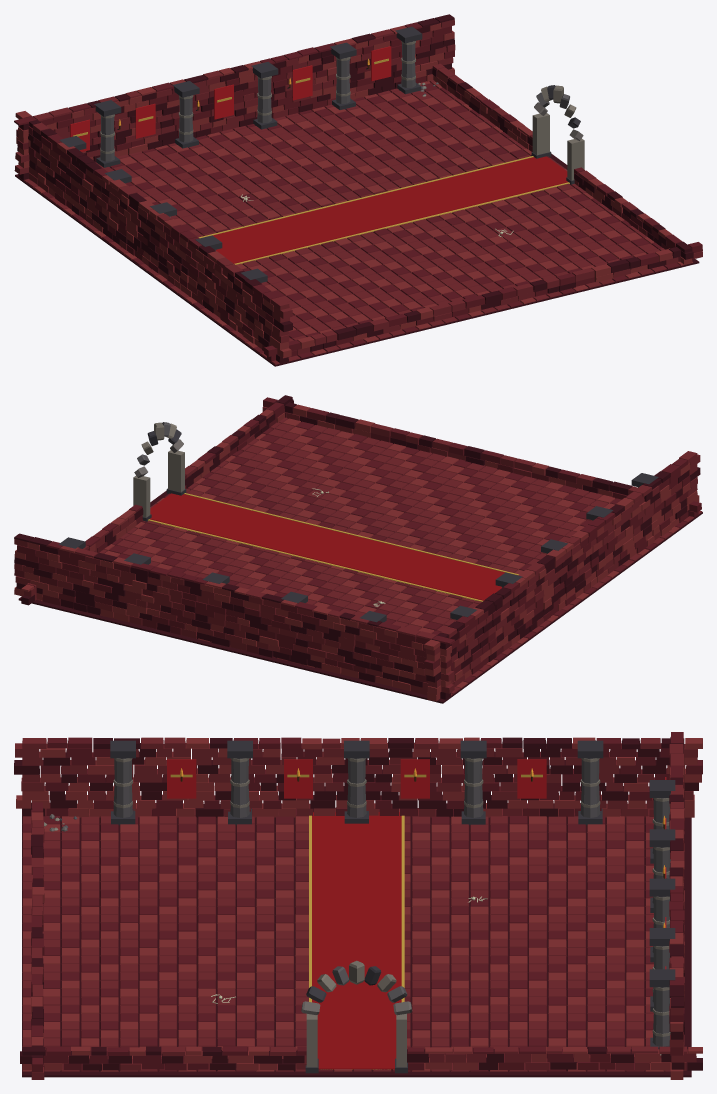
The model's file is stage.glb.
3 renders of one model, top to bottom at view 1: azimuth 30°, elevation 25°; view 2: azimuth 150°, elevation 25°; view 3: azimuth 270°, elevation 25°, orthographic. The views are drawn at different scales.
Visible parts, largest first — view 1: stage_floor, stage_walls, stage_props; view 2: stage_floor, stage_walls, stage_props; view 3: stage_floor, stage_walls, stage_props.
Boxes of the visible parts, x1,y1,x2,y2 form: stage_floor: [15, 80, 699, 366]; stage_walls: [14, 14, 702, 363]; stage_props: [59, 26, 584, 282]; stage_floor: [18, 417, 702, 703]; stage_walls: [14, 395, 701, 701]; stage_props: [58, 422, 658, 622]; stage_floor: [22, 807, 691, 1077]; stage_walls: [14, 732, 702, 1079]; stage_props: [44, 740, 675, 1073].
Bounding box in the file's own units: 33.3 × 6.09 × 35.39.
